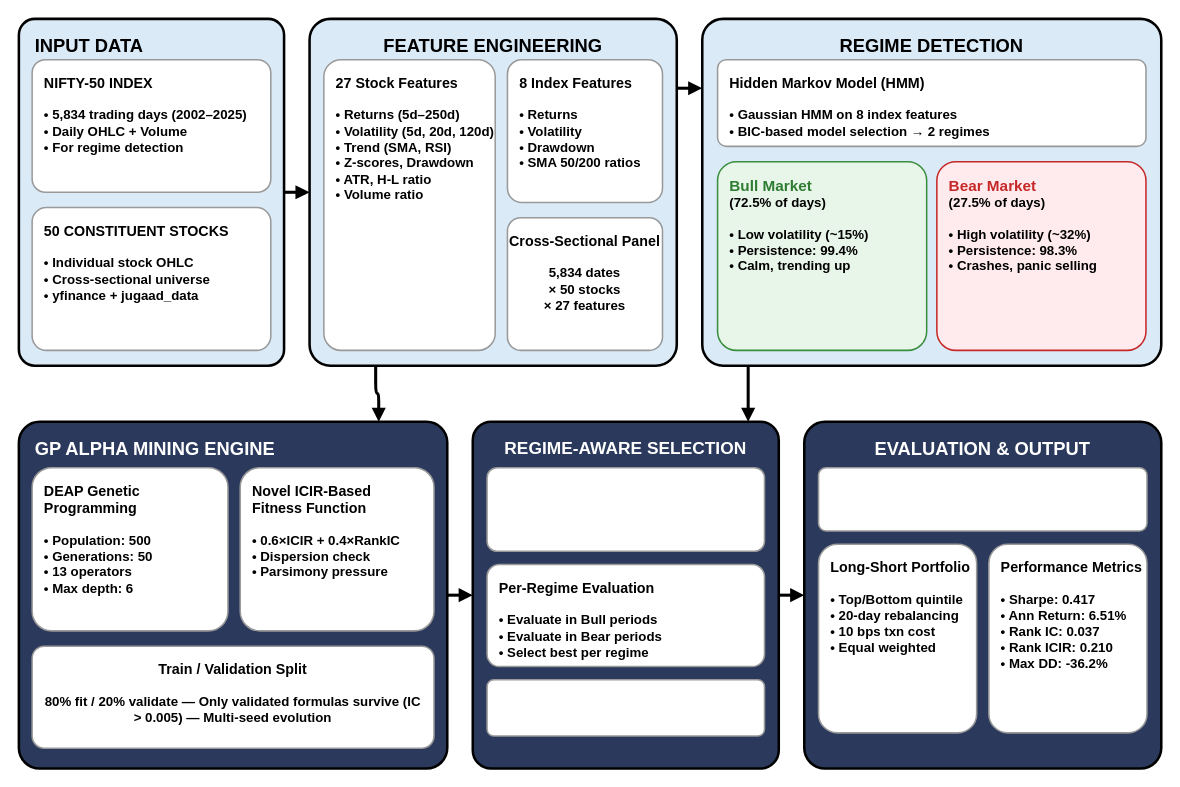
Image size: 1180x787. Some labels were removed from this diagram. The shapes that lost their labels are listed below. From the top down, each one's centre as x and y in pixels, then its label:
point (625, 509): GP Formula Library • Top validated formulas • Ranked by validation ICIR
point (982, 498): Alpha Signal Cross-sectional stock ranking — Daily alpha score per stock
point (625, 707): Dynamic Switching — HMM state → activate regime formula
